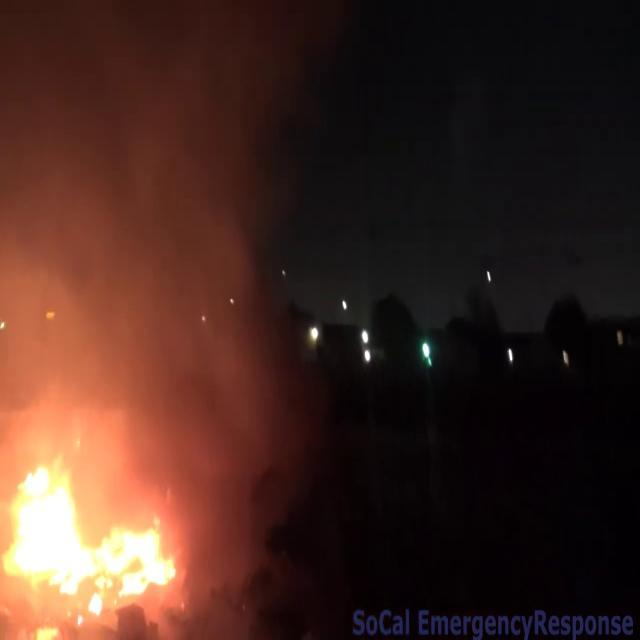Fire: (0, 446, 182, 614)
Smoke: (0, 0, 294, 522)
